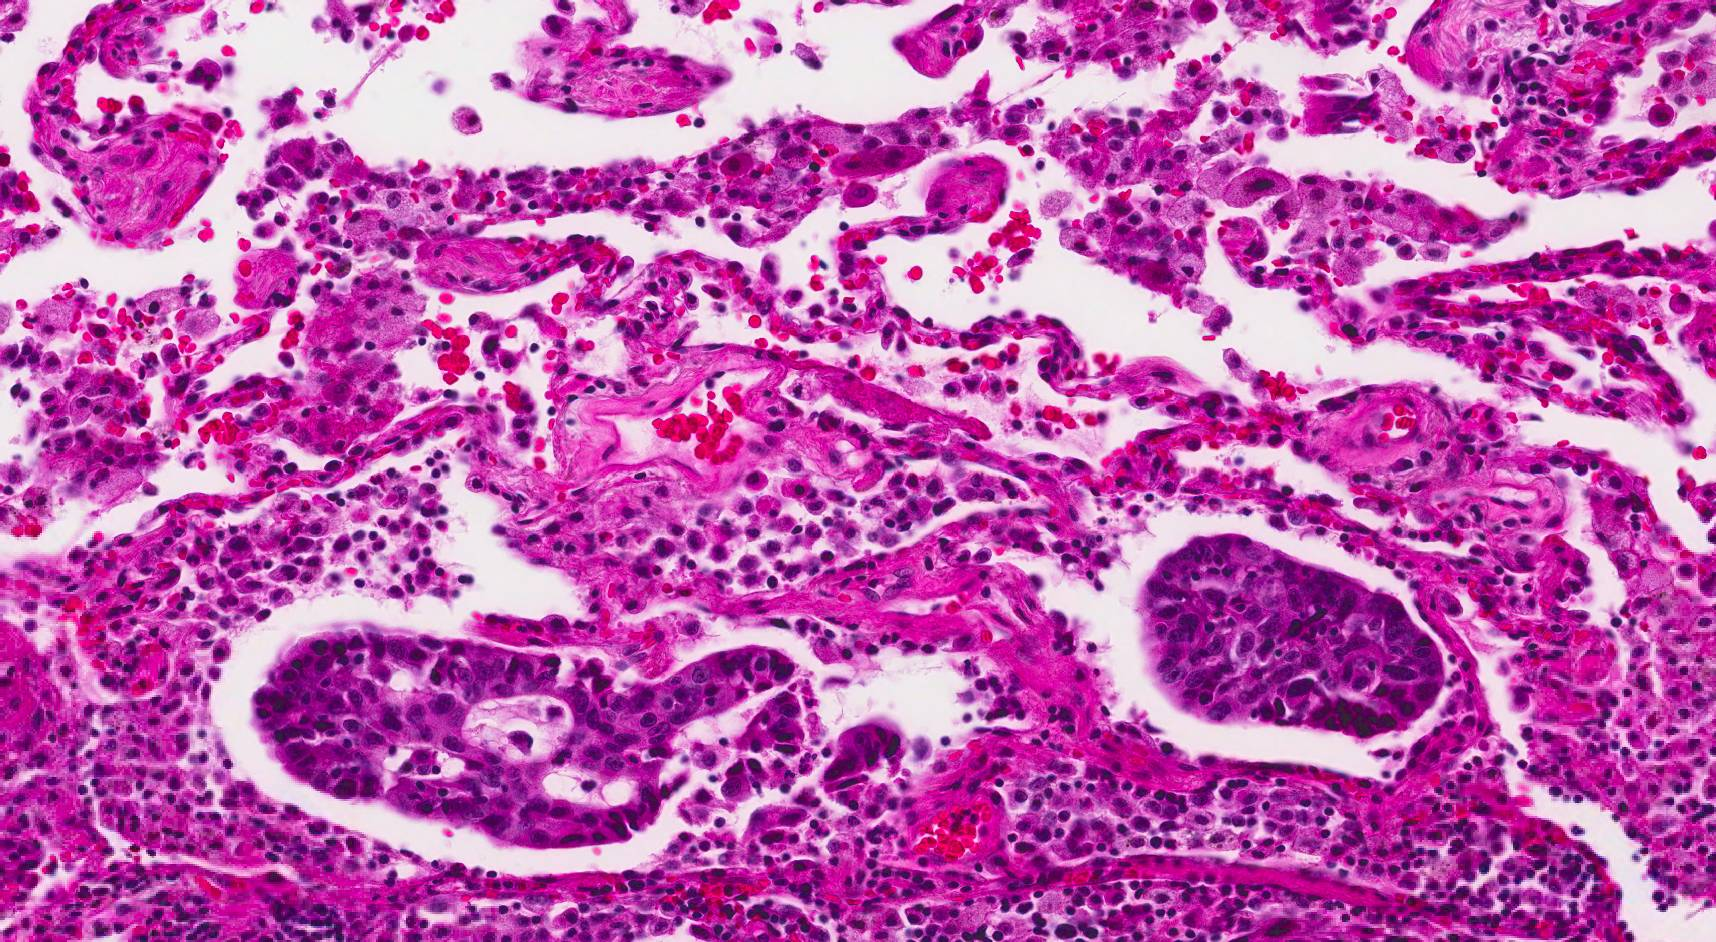stas: (251, 624, 914, 848), (1141, 535, 1442, 738)
